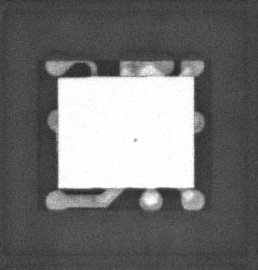DIE_INK: (126, 142, 131, 149)
